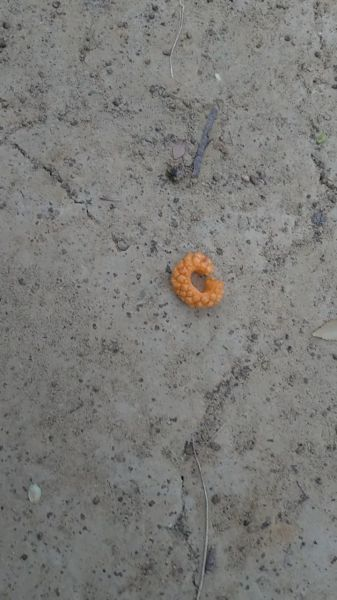eggs: (167, 243, 235, 317)
